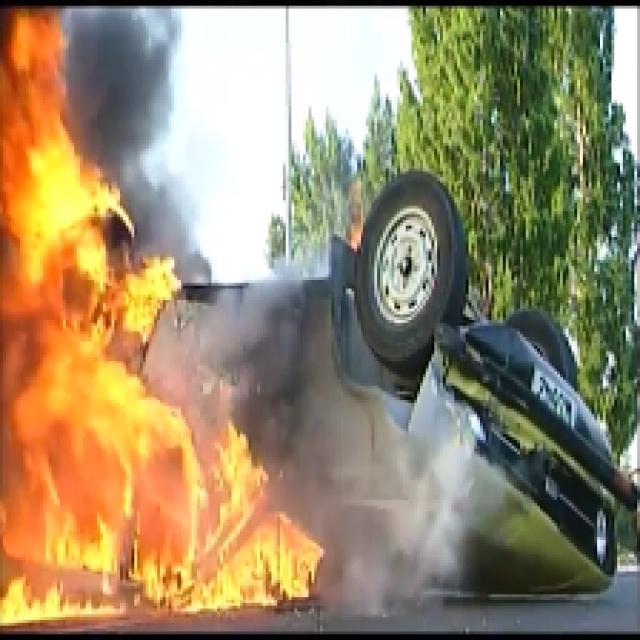Fire: (0, 17, 343, 620)
Smoke: (266, 289, 488, 620), (57, 2, 266, 288)
